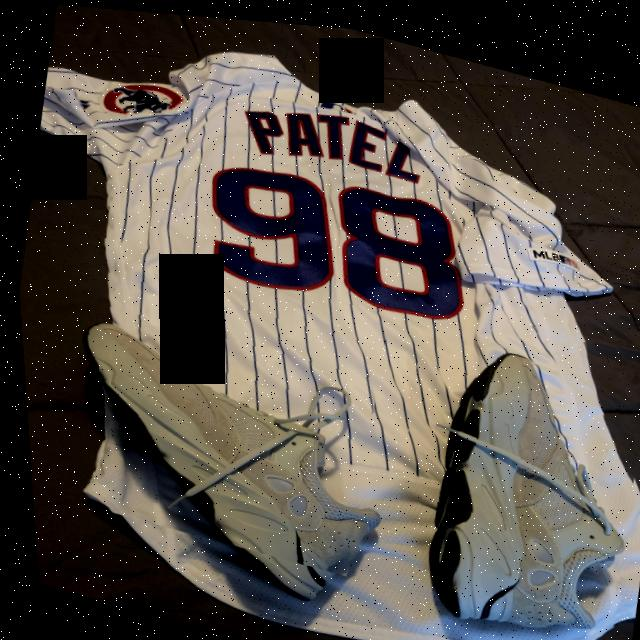shoe: (21, 209, 402, 577), (359, 284, 640, 640)
